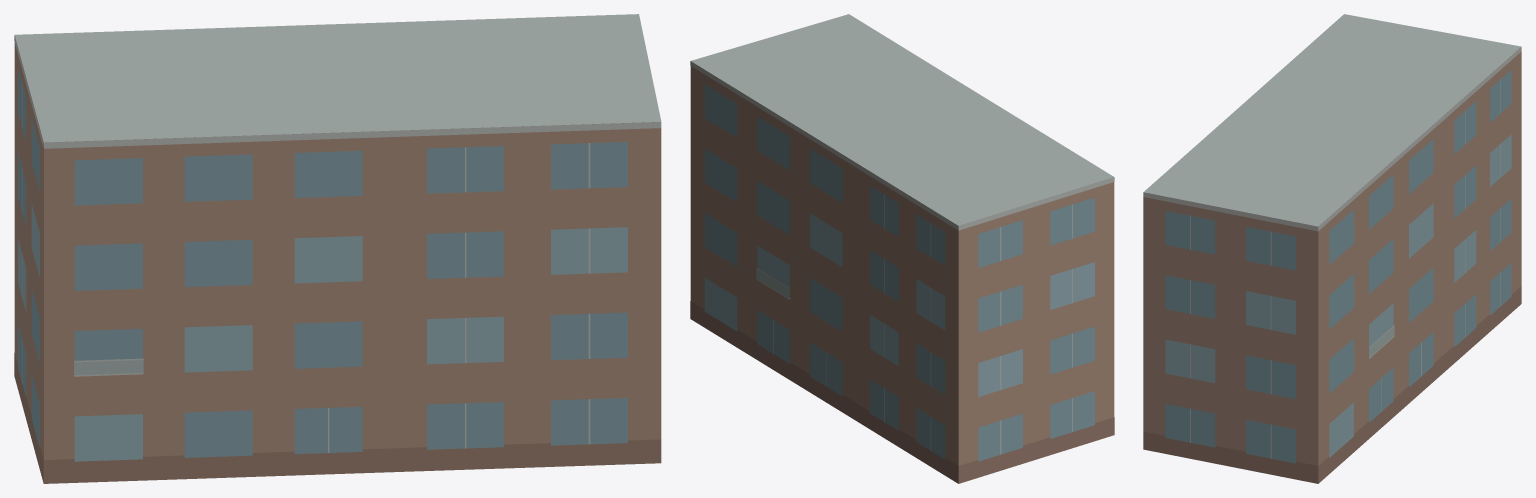
The model's file is survey-upis-32629932.glb.
3 views of the same model, side by side, from view 1: azimuth 30°, elevation 25°; view 2: azimuth 150°, elevation 25°; view 3: azimuth 270°, elevation 25° (orthographic). The views are drawn at different scales.
Parts seen in each view (by area): view 1: survey-upis-32629932.tmp; view 2: survey-upis-32629932.tmp; view 3: survey-upis-32629932.tmp.
Part boxes in pixels (x1=…): survey-upis-32629932.tmp: x1=14, y1=14, x2=661, y2=483; survey-upis-32629932.tmp: x1=690, y1=14, x2=1114, y2=483; survey-upis-32629932.tmp: x1=1143, y1=14, x2=1521, y2=483.
Size of the model in its own units: 23.4 by 13.2 by 17.6.
